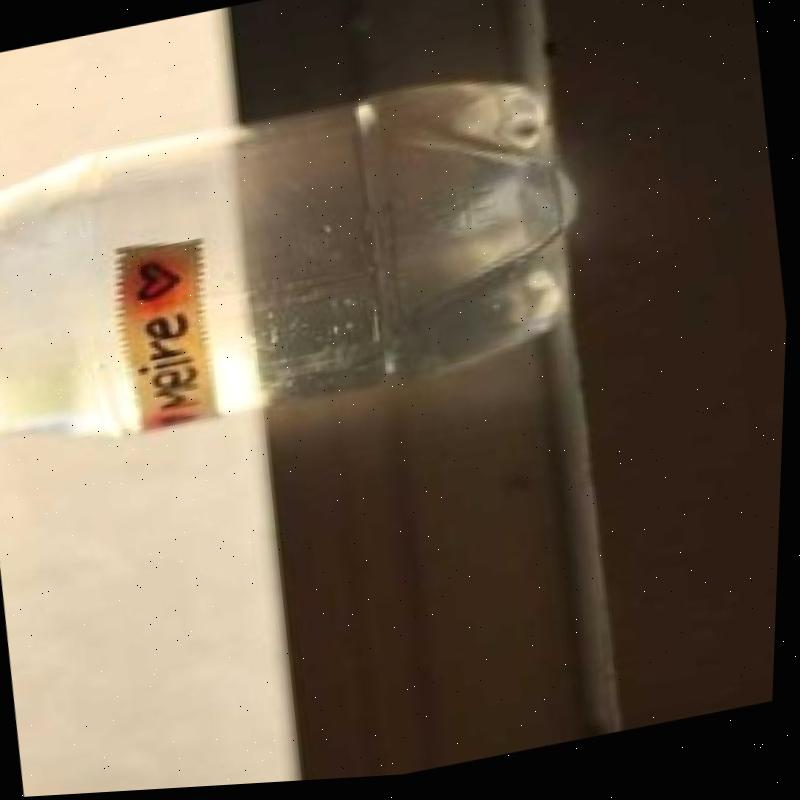botella: (0, 54, 608, 468)
